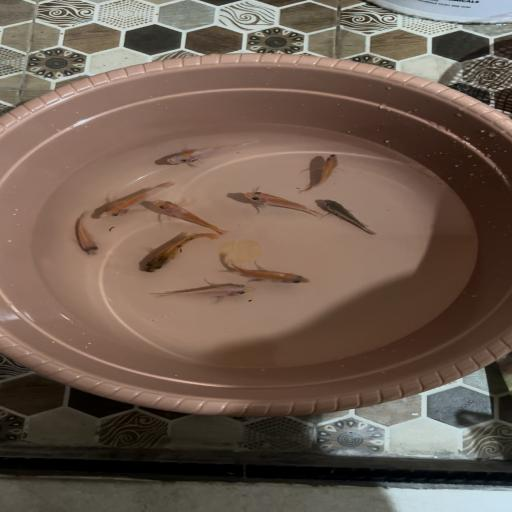nila: (132, 229, 222, 280), (148, 133, 264, 171), (89, 178, 179, 221), (231, 185, 324, 223), (316, 196, 392, 238), (151, 198, 230, 238), (219, 253, 313, 286), (145, 278, 262, 304), (305, 150, 347, 194), (72, 207, 106, 257)
